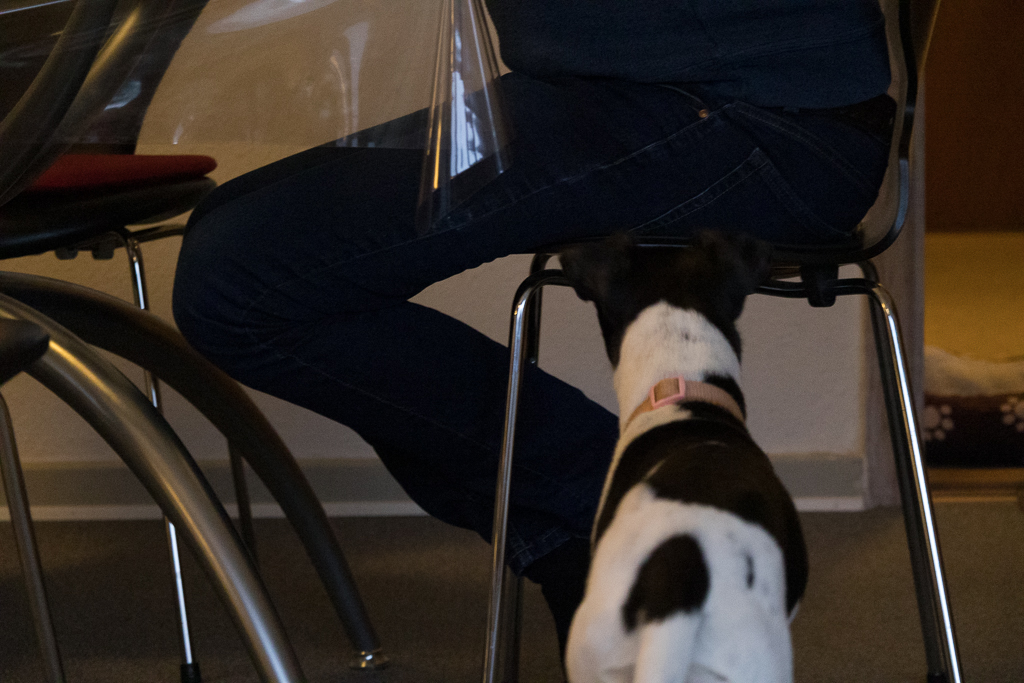Dog: (538, 195, 827, 683)
Humanoid: (165, 0, 899, 683)
